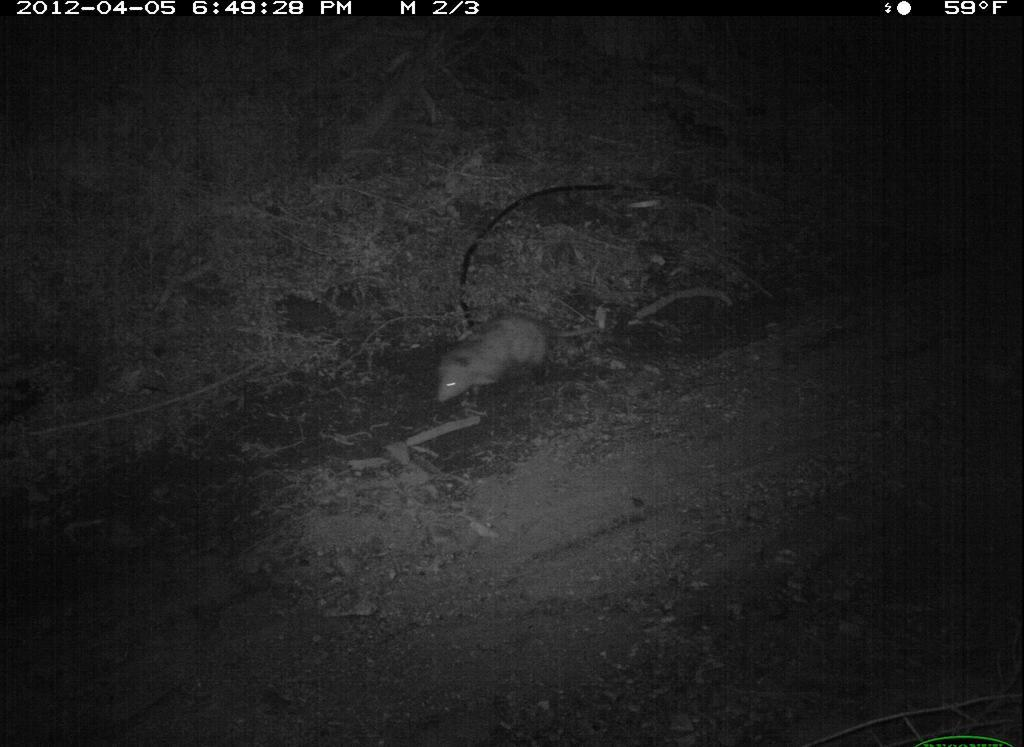opossum: (434, 309, 596, 410)
